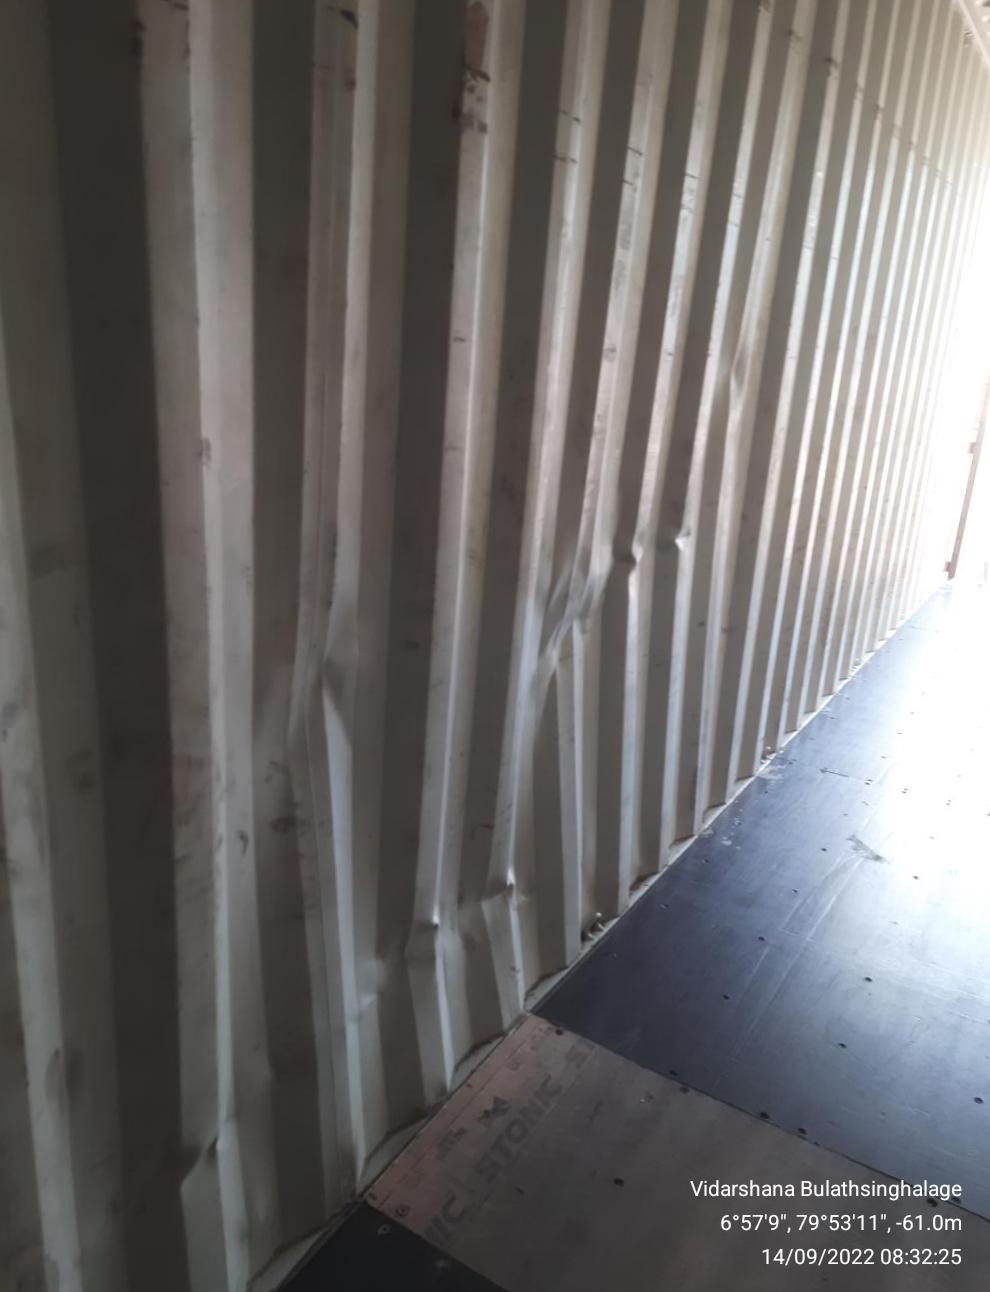dented: (265, 448, 725, 960)
